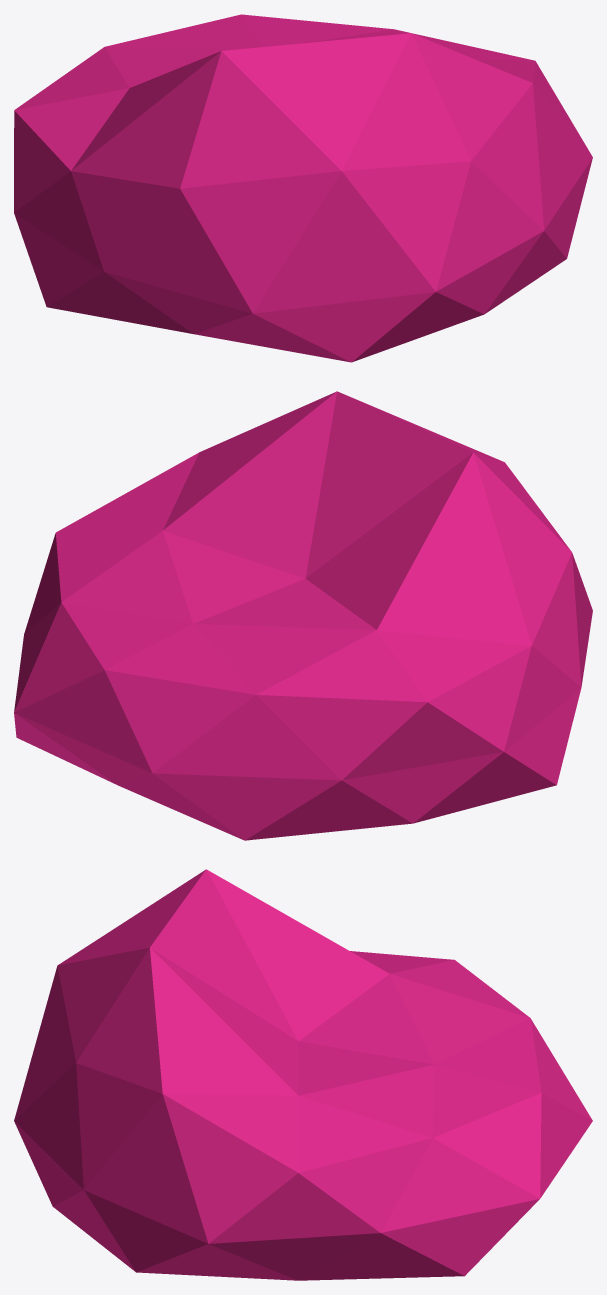
3 renders of one model, top to bottom at view 1: azimuth 30°, elevation 25°; view 2: azimuth 150°, elevation 25°; view 3: azimuth 270°, elevation 25°, orthographic. The views are drawn at different scales.
Visible parts, largest first — view 1: bag; view 2: bag; view 3: bag.
Part boxes in pixels (<box>): bag: <box>14,14,592,362</box>; bag: <box>14,391,592,840</box>; bag: <box>14,869,592,1280</box>.
Bounding box in the file's own units: 0.815 × 0.4031 × 0.8274.
